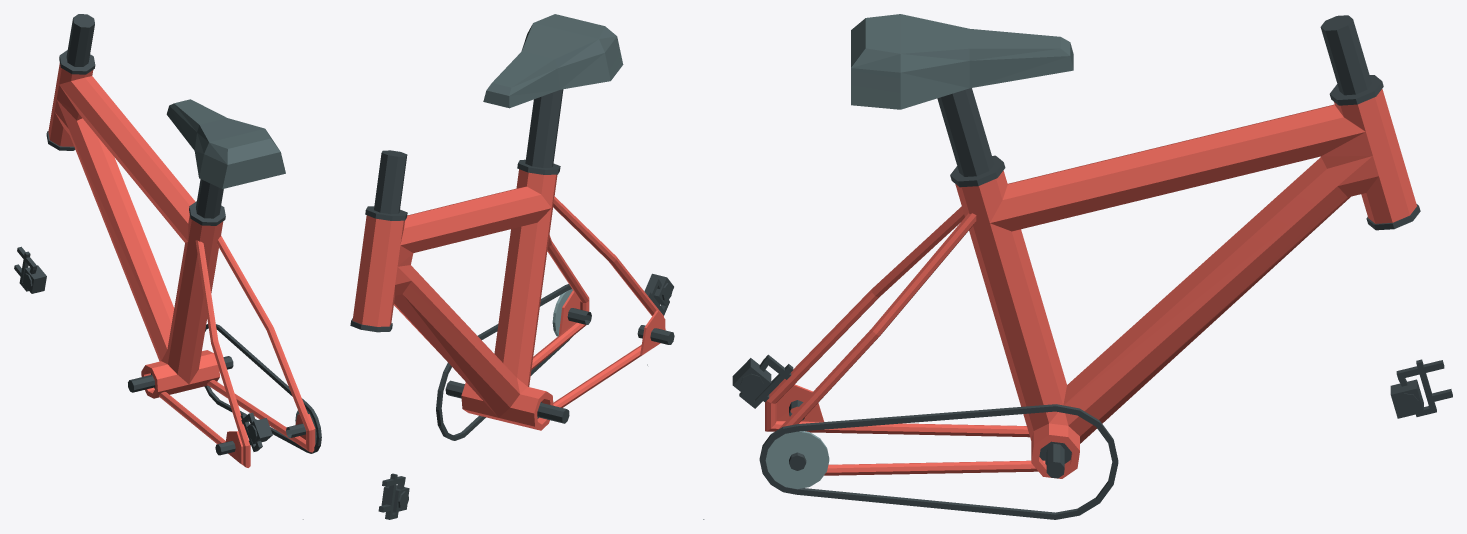
File: body.fbx
The picture shows the model from 3 angles, left to right: view 1: azimuth 30°, elevation 25°; view 2: azimuth 150°, elevation 25°; view 3: azimuth 270°, elevation 25°; orthographic projection. The views are drawn at different scales.
Parts seen in each view (by area): view 1: 車體, 鍊條, 前輪煞車, 後煞車; view 2: 車體, 鍊條, 前輪煞車, 後煞車; view 3: 車體, 鍊條, 前輪煞車, 後煞車.
Part boxes in pixels (left/top/right/bottom): 車體: left=46, top=14, right=316, bottom=519; 鍊條: left=159, top=324, right=321, bottom=453; 前輪煞車: left=14, top=246, right=46, bottom=293; 後煞車: left=240, top=414, right=272, bottom=451; 車體: left=350, top=14, right=674, bottom=430; 鍊條: left=436, top=284, right=641, bottom=440; 前輪煞車: left=378, top=473, right=409, bottom=519; 後煞車: left=644, top=273, right=673, bottom=315; 車體: left=703, top=14, right=1420, bottom=519; 鍊條: left=759, top=404, right=1118, bottom=519; 前輪煞車: left=1390, top=359, right=1452, bottom=418; 後煞車: left=732, top=358, right=788, bottom=401.
Bounding box in the file's own units: 28.49 × 92.84 × 126.
